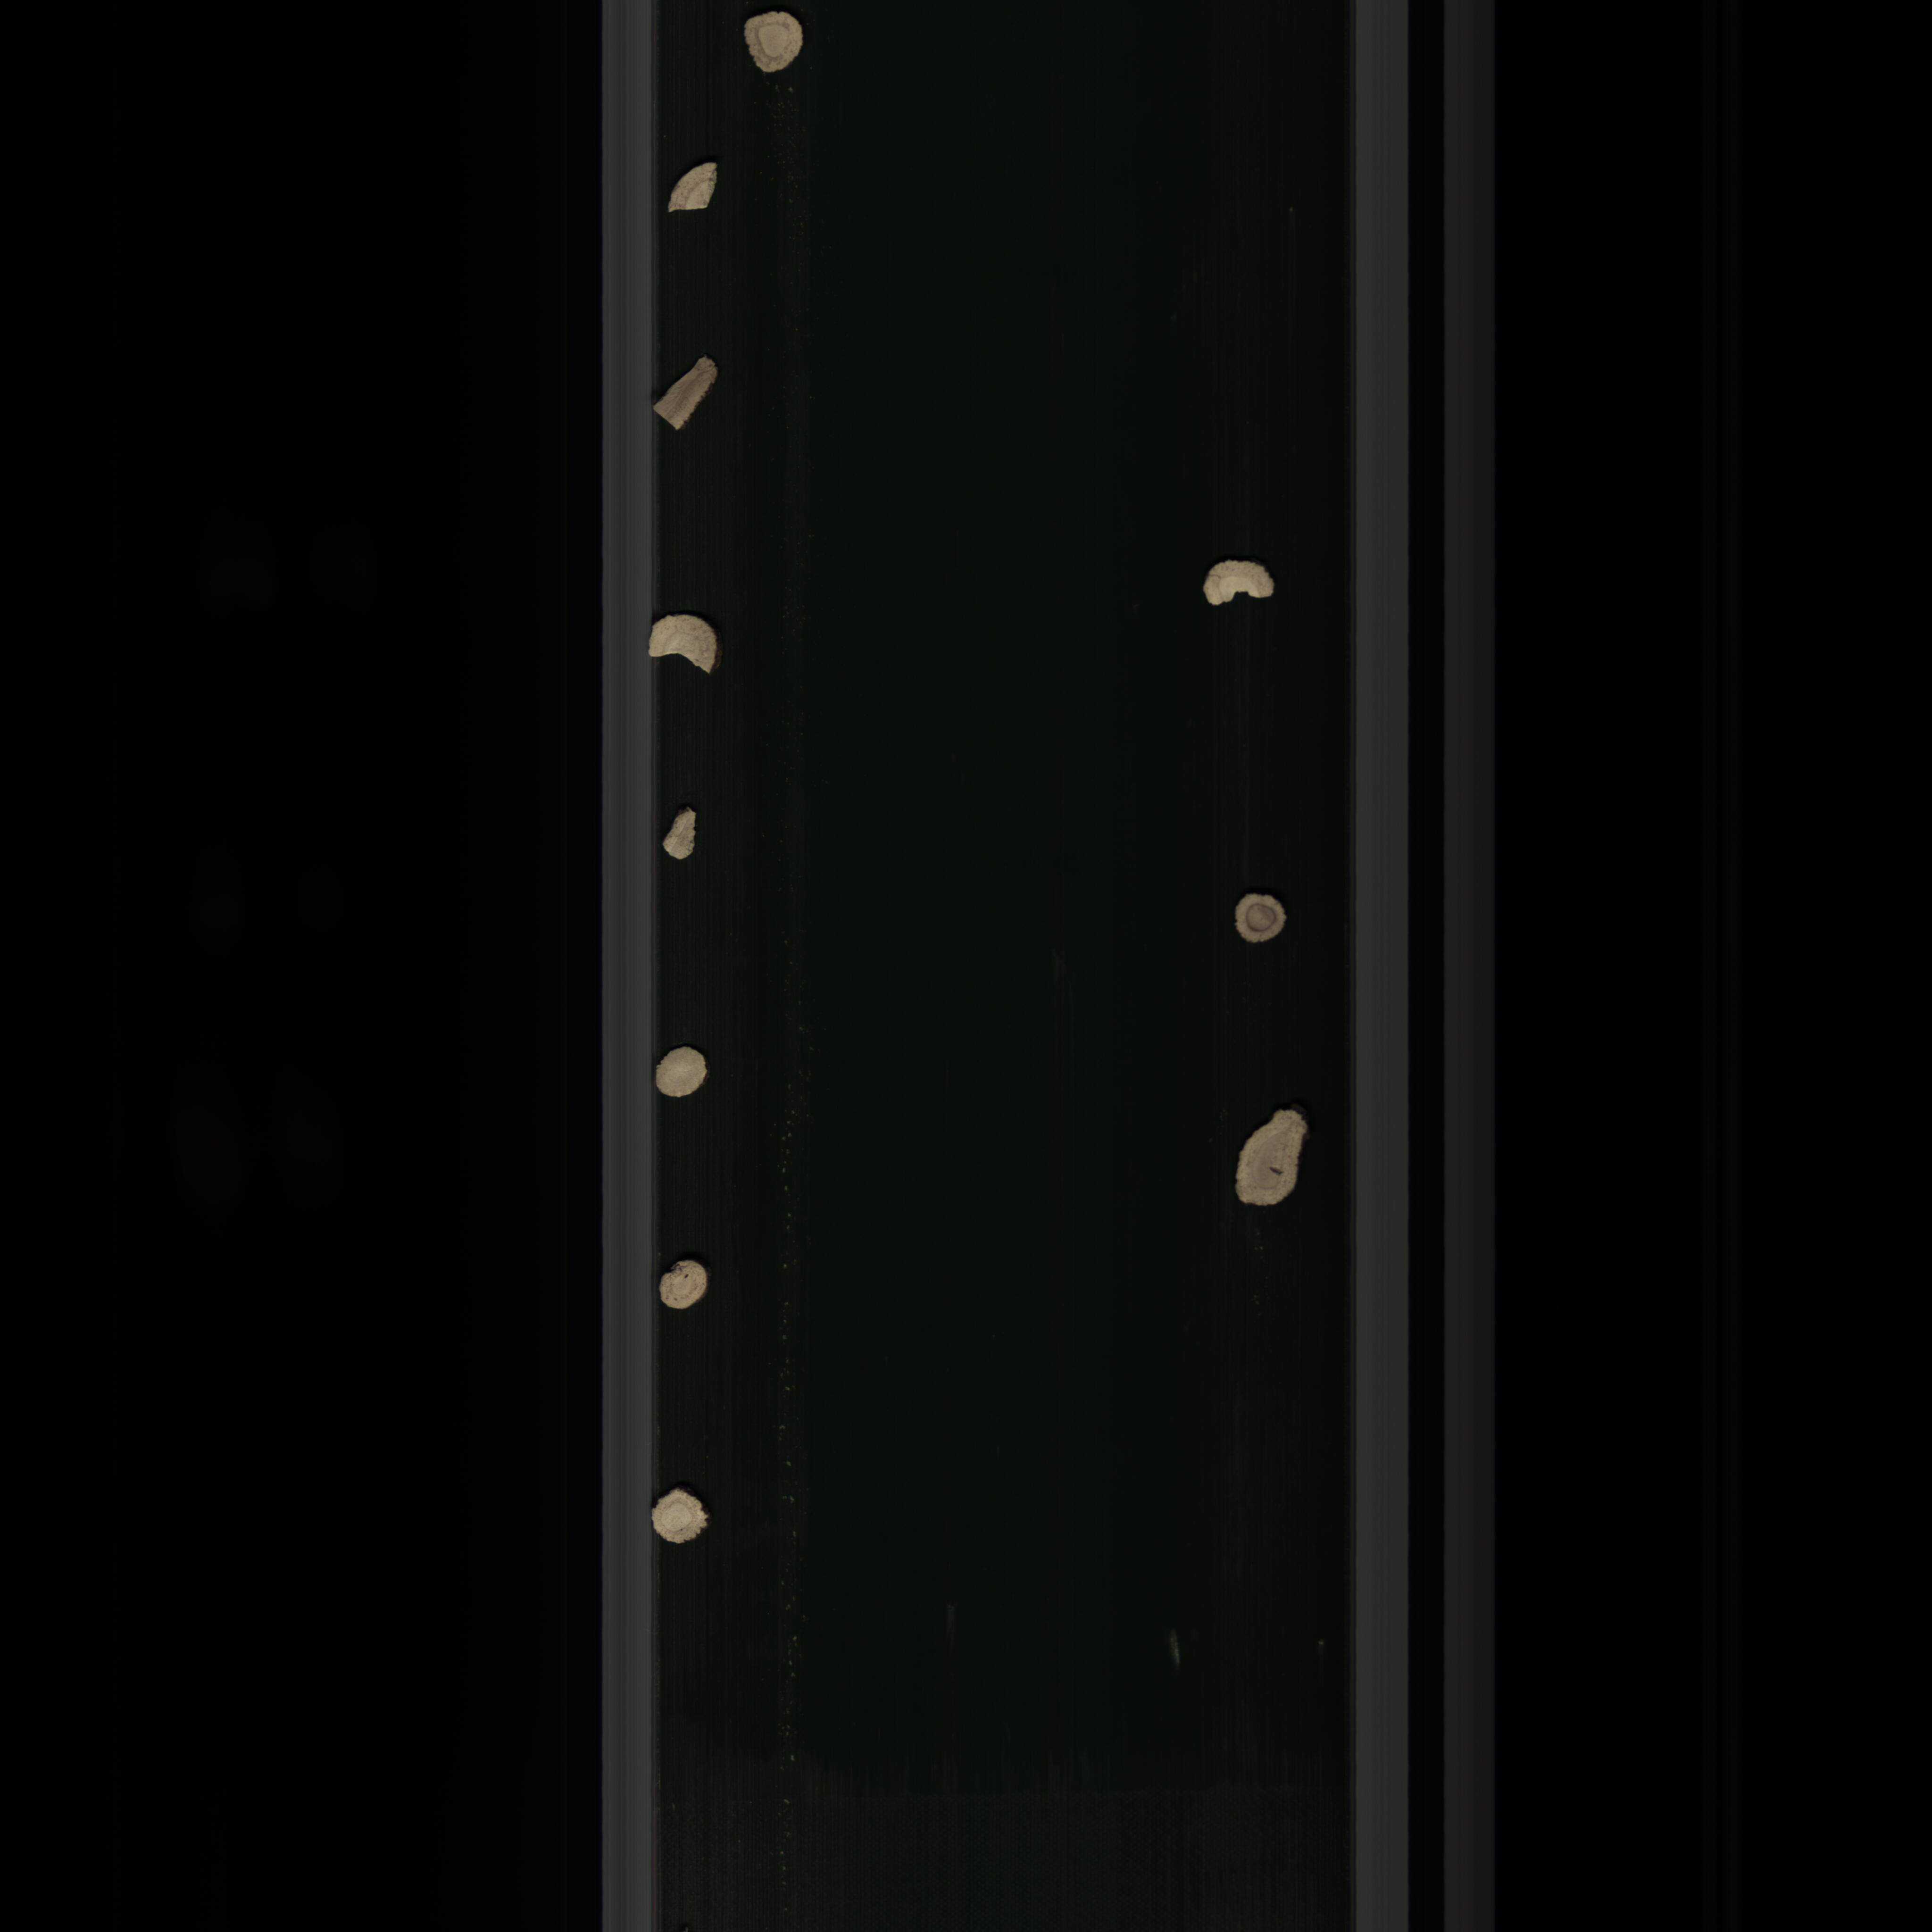debris: (646, 602, 727, 688), (648, 350, 724, 441), (1192, 556, 1283, 619), (667, 145, 722, 223), (658, 798, 701, 872)
hole: (1224, 1106, 1327, 1221)
moldy: (1224, 890, 1293, 950)
